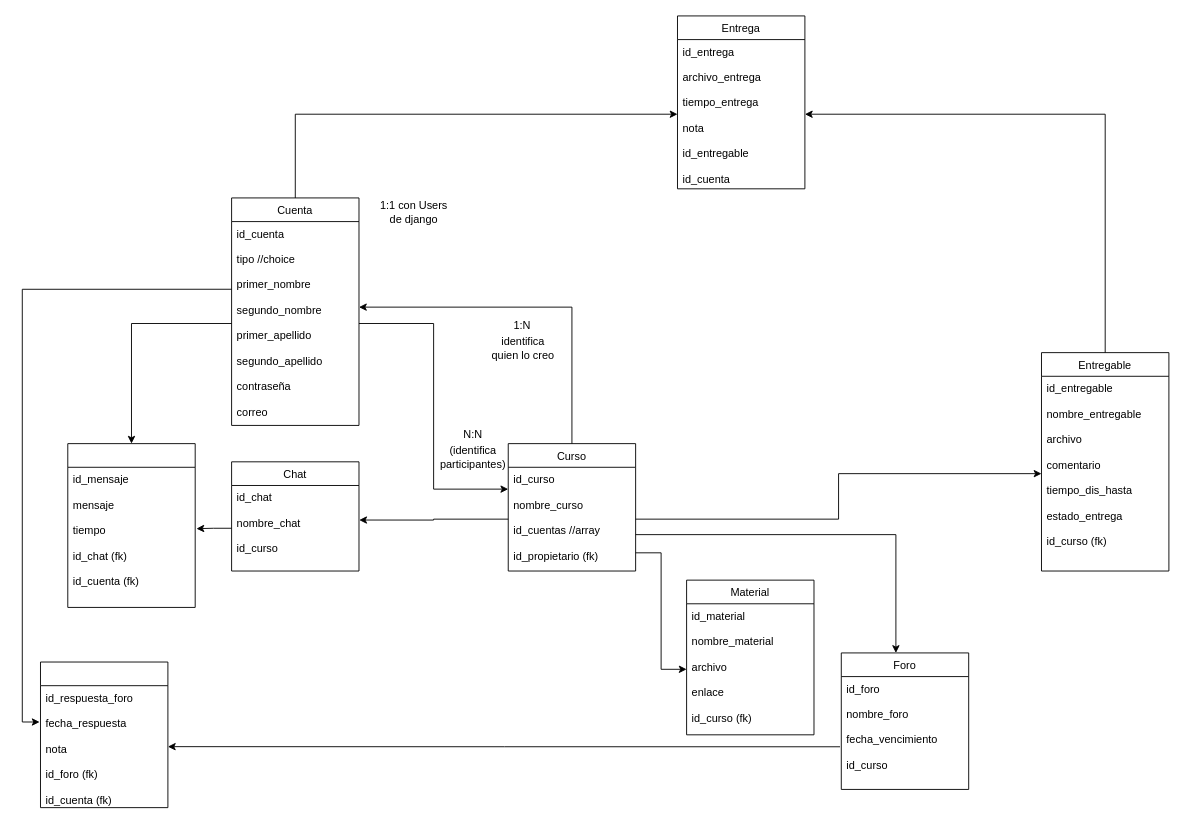
Some shapes in this 1185 by 826 pixel diagram are drawn without their labels. Each missing label, with the box of its shape:
Mensajes: (67, 443, 195, 607)
RespuestasForo: (40, 661, 168, 808)
